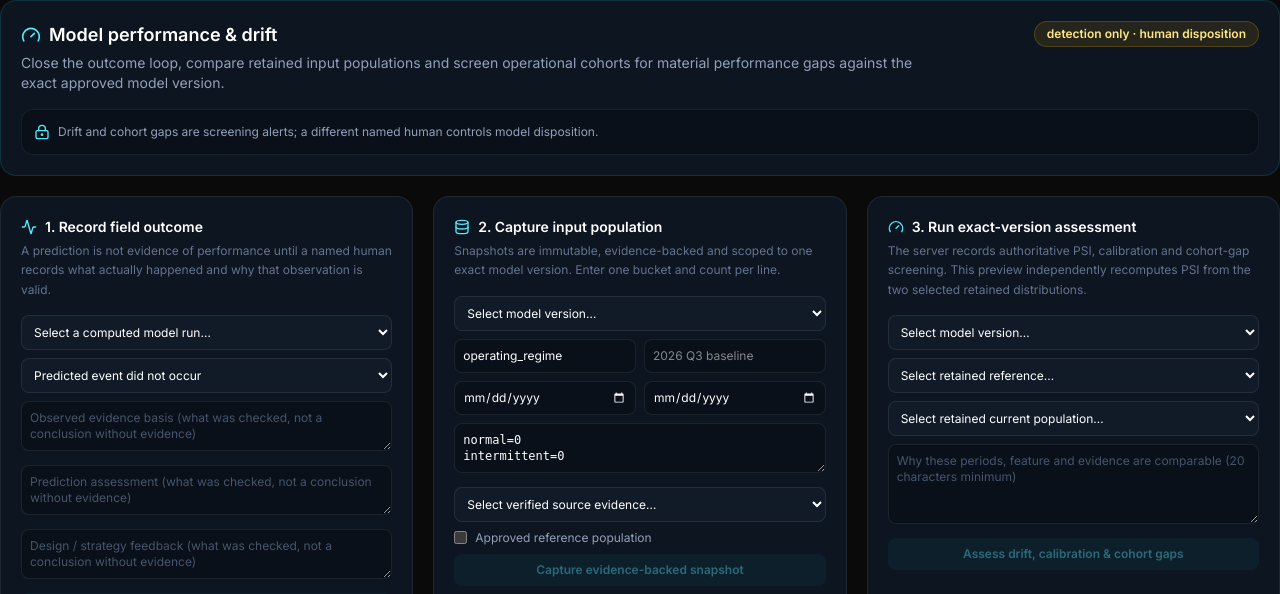
Test: ModelPerformanceMonitoringPanel › recomputes a live PSI preview and records only through the governed RPC
Later steps or results of the test are not shown.
Expected: the heading "Model performance & drift" is shown, [21, 24, 277, 45]
Select "Pump failure screen · v2.0.0" in the dropdown named "Assessment model version". click: (1073, 332)
box: [888, 315, 1259, 350]
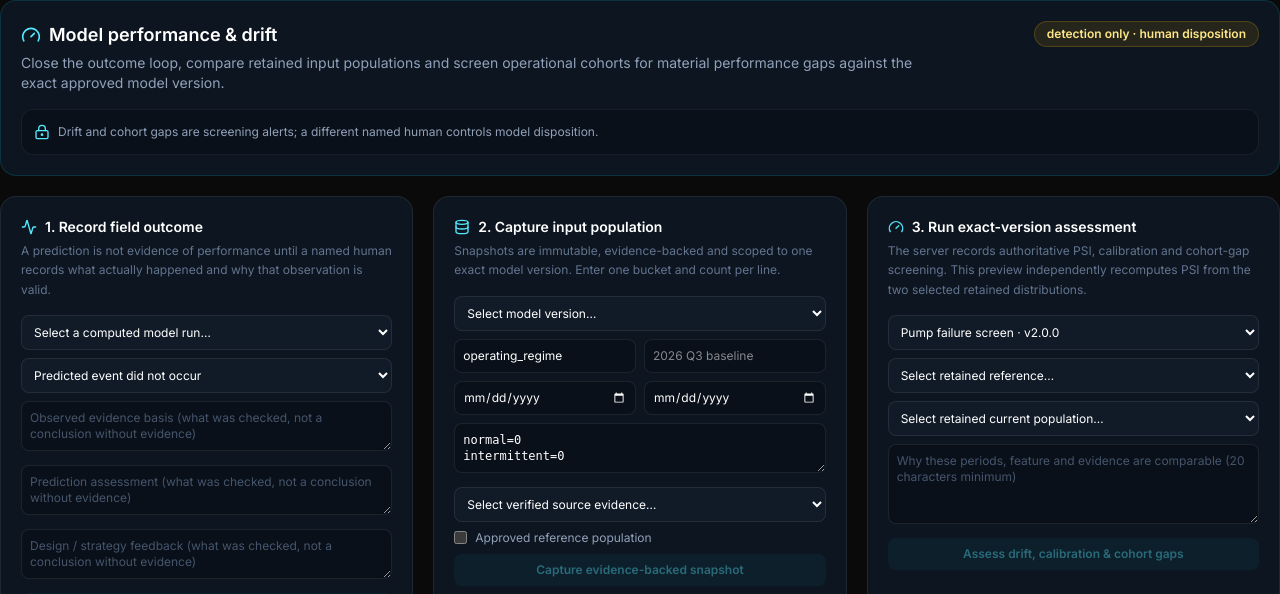
Select "Reference · operating_regime · 2026-01-01 → 2026-03-31" in the dropdown named "Reference snapshot". click: (1073, 376)
box: [888, 358, 1259, 393]
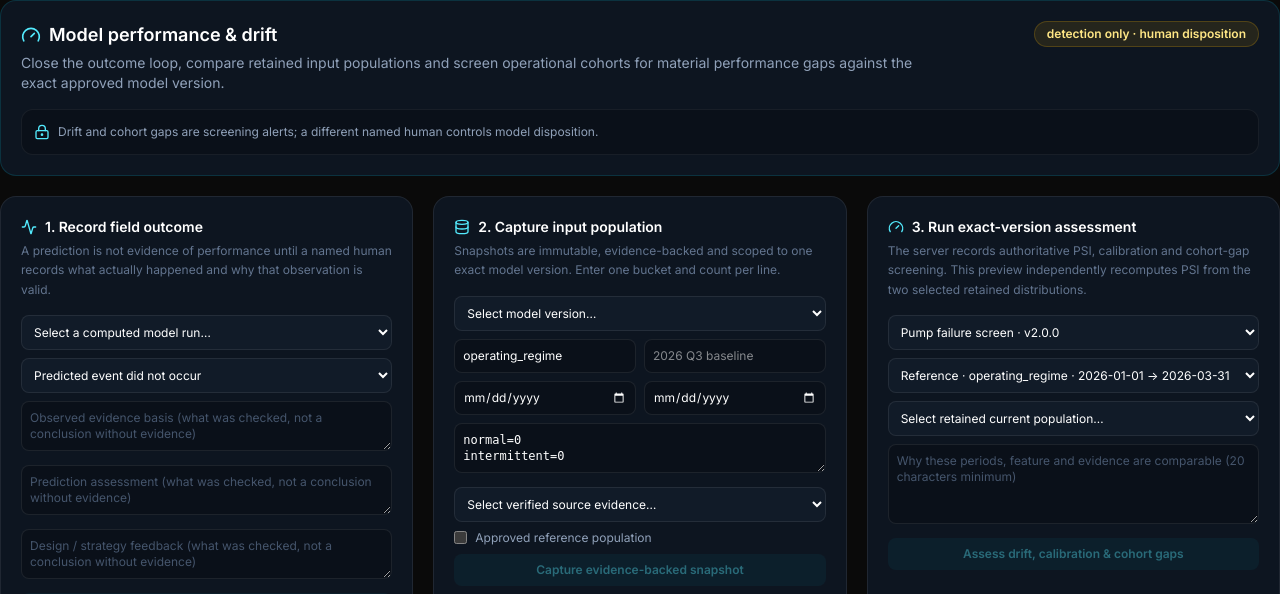
Select "Current · operating_regime · 2026-04-01 → 2026-06-30" in the dropdown named "Current snapshot". click: (1073, 418)
box: [888, 401, 1259, 436]
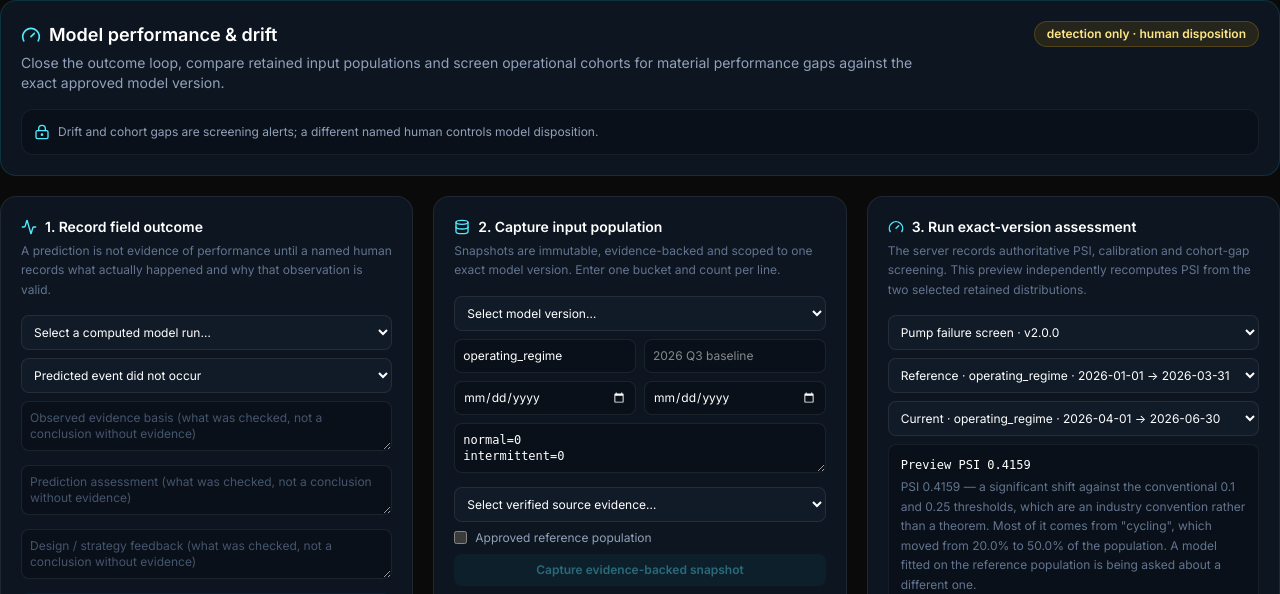
Now the text "Preview PSI 0.4159" is shown, box [901, 458, 1031, 472]
